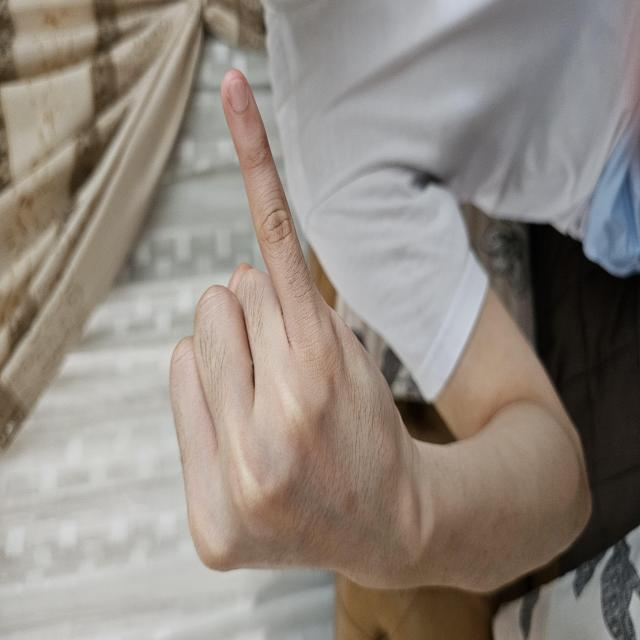J: (42, 33, 554, 611)
